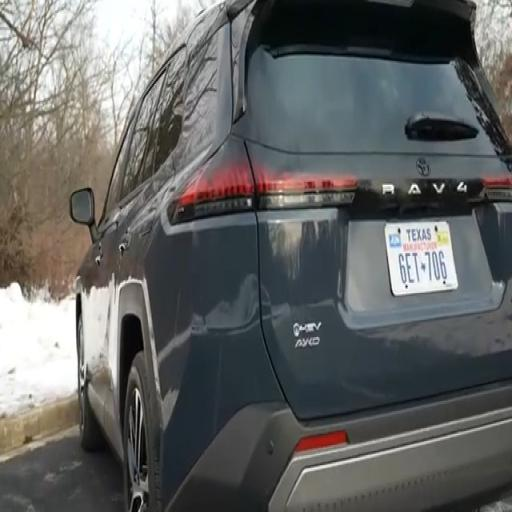bumper: (165, 386, 511, 511), (269, 410, 511, 511)
door: (104, 70, 164, 455), (81, 123, 132, 423)
emblem: (293, 322, 321, 348), (416, 158, 430, 177)
side_mirror: (70, 188, 96, 241)
taillight: (168, 157, 357, 223), (295, 431, 347, 453), (481, 175, 511, 200)
tire: (124, 352, 162, 511)
trunk: (234, 0, 511, 419), (258, 204, 511, 419)
wheel: (124, 353, 161, 511), (77, 316, 104, 450)
window: (242, 2, 507, 156), (121, 74, 163, 199), (180, 32, 219, 163), (148, 49, 185, 172), (100, 121, 132, 224)
